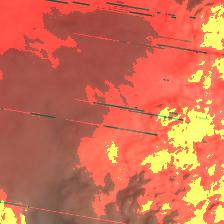landslides: (201, 124, 211, 163), (51, 56, 65, 77), (108, 113, 123, 129), (36, 145, 60, 153), (151, 94, 163, 110), (115, 85, 123, 104), (46, 56, 55, 72), (95, 113, 101, 137), (73, 0, 92, 7), (42, 45, 56, 54)
